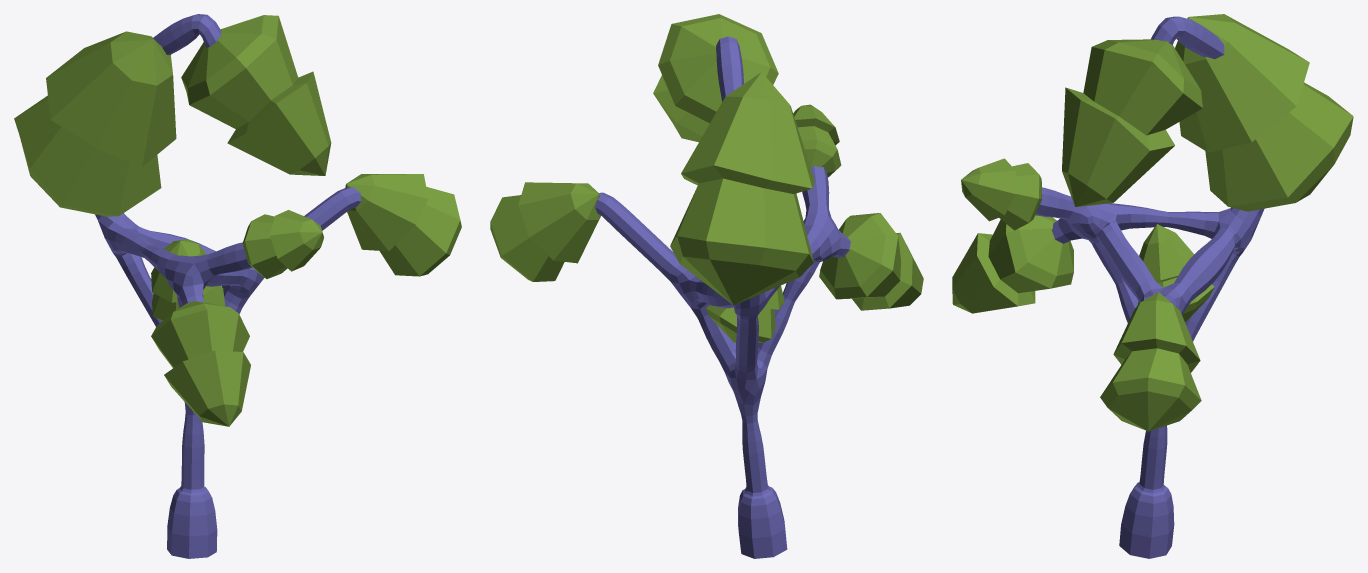
Rendered from Arbre étonant.fbx.
The picture shows the model from 3 angles, left to right: view 1: azimuth 30°, elevation 25°; view 2: azimuth 150°, elevation 25°; view 3: azimuth 270°, elevation 25°; orthographic projection. The views are drawn at different scales.
Parts seen in each view (by area): view 1: leaf.002, tronc, leaf.001, leaf, leaf.003, leaf.004, leaf.005; view 2: leaf.002, tronc, leaf.001, leaf.003, leaf, leaf.004, leaf.005; view 3: leaf.002, tronc, leaf.001, leaf.003, leaf, leaf.004, leaf.005.
Boxes of the visible parts, <box> form: leaf.002: <box>14,31,176,216</box>; tronc: <box>95,14,361,558</box>; leaf.001: <box>181,15,331,175</box>; leaf: <box>151,301,250,426</box>; leaf.003: <box>345,174,461,276</box>; leaf.004: <box>242,210,323,278</box>; leaf.005: <box>151,239,225,320</box>; leaf.002: <box>670,72,814,305</box>; tronc: <box>595,36,850,558</box>; leaf.001: <box>653,14,778,142</box>; leaf.003: <box>490,182,600,281</box>; leaf: <box>819,213,923,310</box>; leaf.004: <box>793,104,841,177</box>; leaf.005: <box>706,285,784,342</box>; leaf.002: <box>1175,14,1353,211</box>; tronc: <box>1035,16,1264,558</box>; leaf.001: <box>1062,39,1202,206</box>; leaf.003: <box>1100,292,1201,431</box>; leaf: <box>952,215,1073,313</box>; leaf.004: <box>961,158,1041,230</box>; leaf.005: <box>1138,224,1214,322</box>.
Size of the model in its own units: 863 by 1166 by 782.
